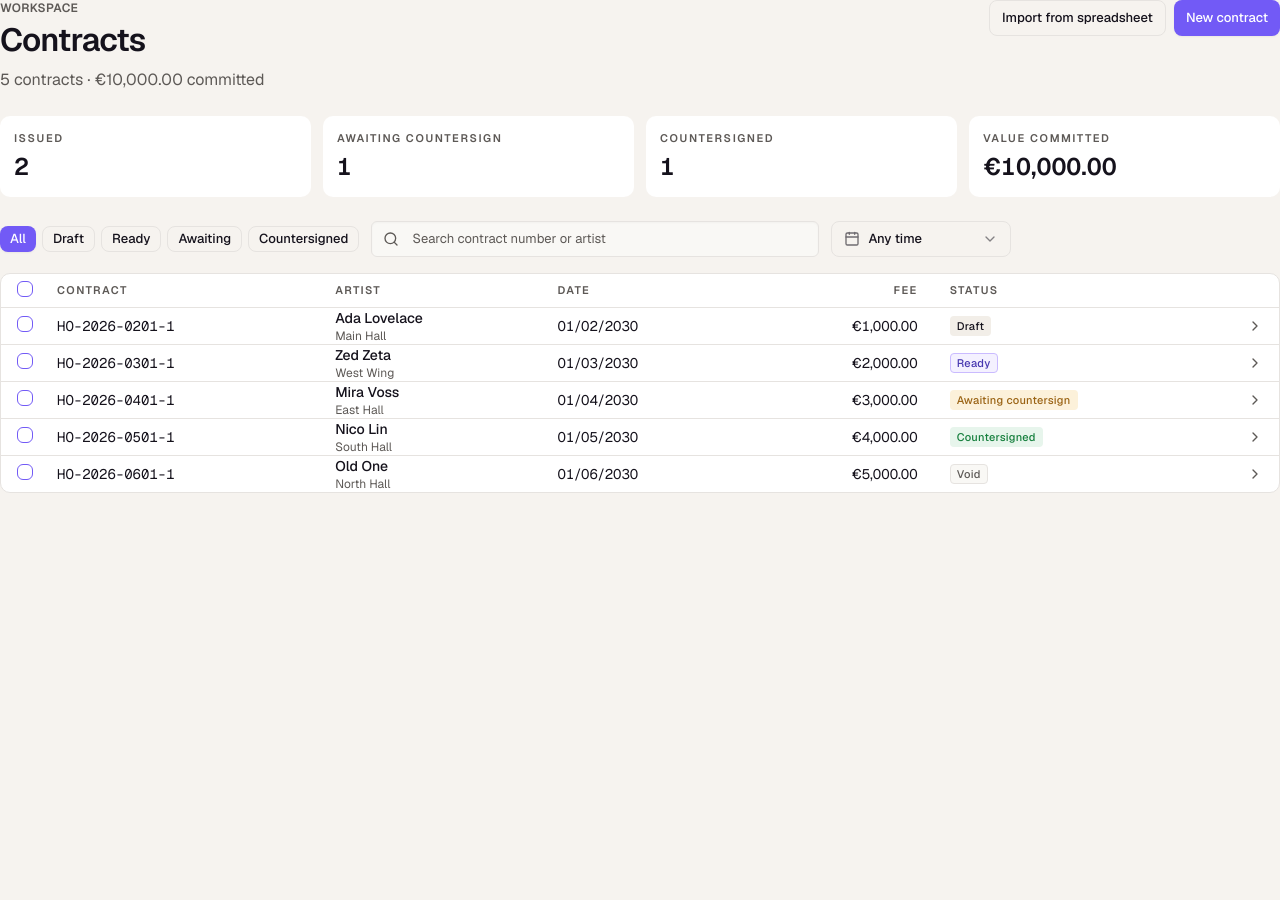
Scenario: HireOrdersPage › opens the guided wizard on New order and does not self-disable to a dead-end
This screenshot has width=1280, height=900.
Expected: the heading "Contracts" is shown, [0, 19, 145, 60]
What coordinates should you click on to do the following:
click the button "New contract"
I would click on:
 (1227, 18)
Its box is [1174, 0, 1279, 36].
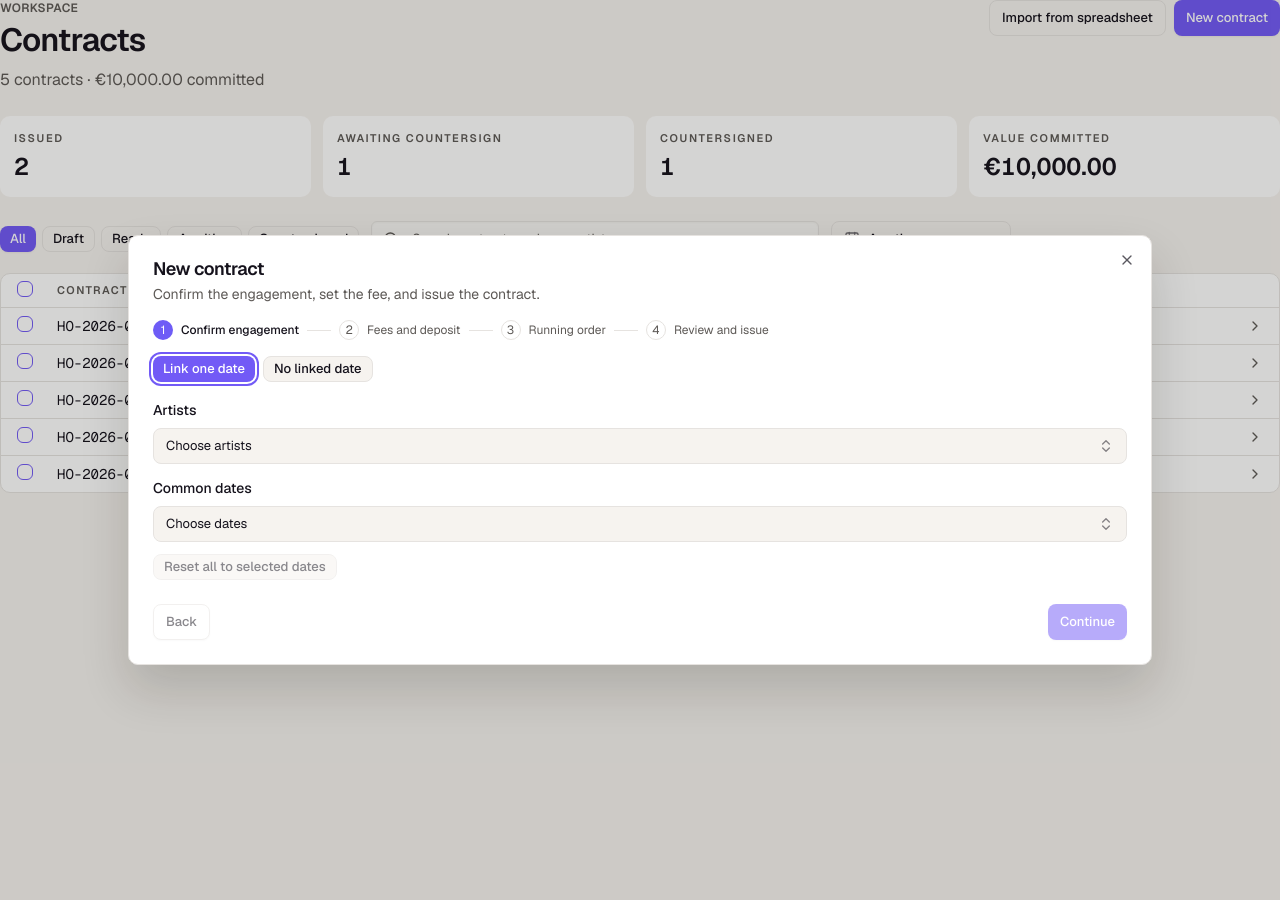
Expected: the heading "New contract" is shown, [153, 257, 264, 280]
